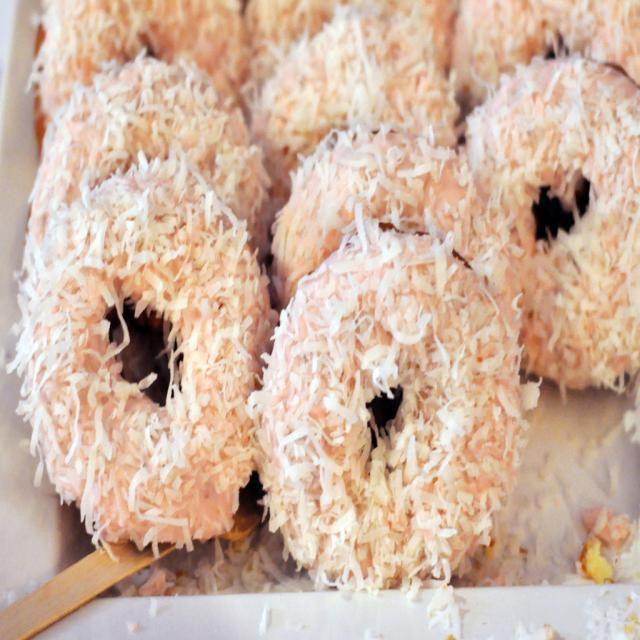Bagel: (16, 153, 262, 548)
